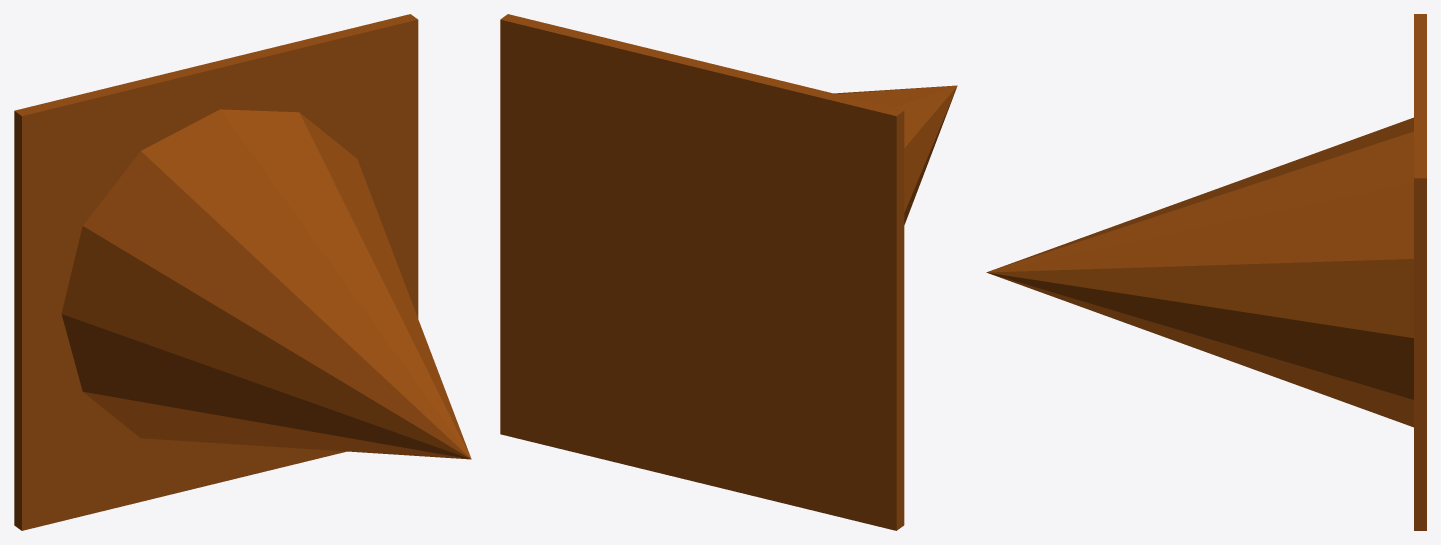
3 views of the same model, side by side, from view 1: azimuth 30°, elevation 25°; view 2: azimuth 150°, elevation 25°; view 3: azimuth 270°, elevation 25° (orthographic). The views are drawn at different scales.
Parts seen in each view (by area): view 1: SketchUp.001_ID10, SketchUp_ID2; view 2: SketchUp_ID2, SketchUp.001_ID10; view 3: SketchUp.001_ID10, SketchUp_ID2.
Part boxes in pixels (<box>): SketchUp.001_ID10: <box>61,109,471,459</box>; SketchUp_ID2: <box>14,14,418,530</box>; SketchUp_ID2: <box>500,14,904,530</box>; SketchUp.001_ID10: <box>834,85,957,224</box>; SketchUp.001_ID10: <box>986,117,1413,427</box>; SketchUp_ID2: <box>1414,14,1426,530</box>.
Bounding box in the file's own units: 0.15 × 0.15 × 0.17.
